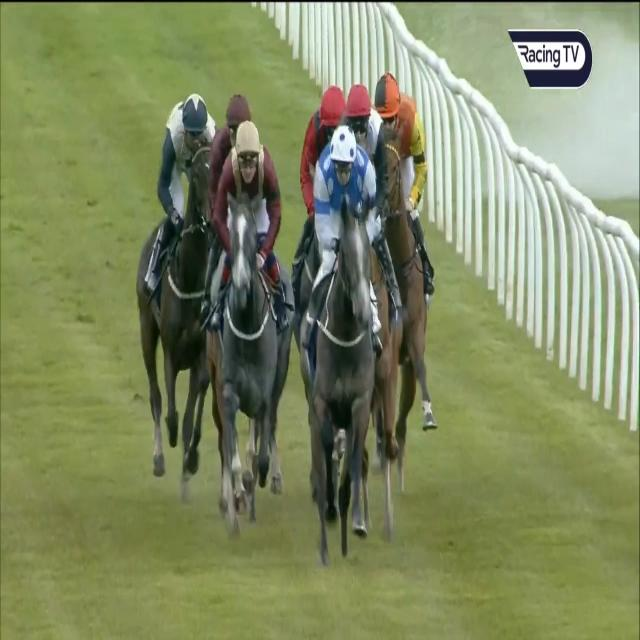horses-racing: (369, 53, 486, 461), (305, 120, 391, 569), (210, 124, 290, 523), (132, 93, 215, 451), (334, 78, 419, 234), (292, 72, 360, 242), (208, 77, 252, 191)
